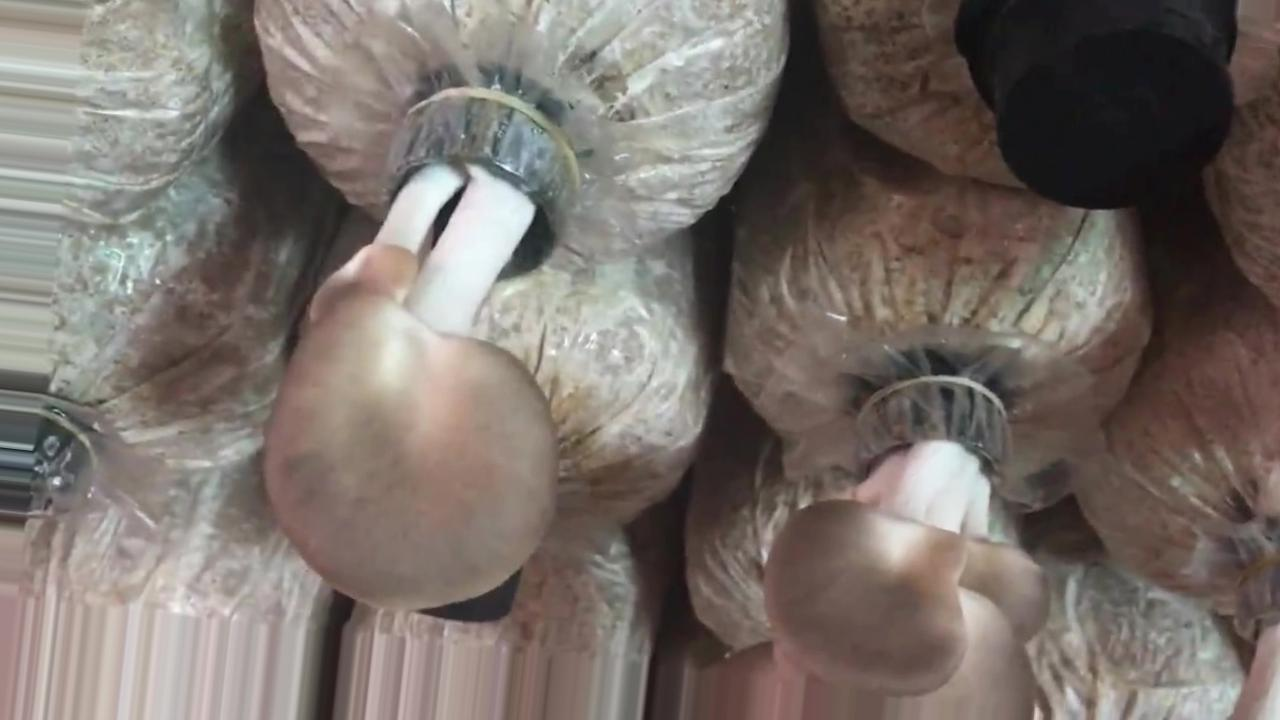nam: (264, 92, 595, 609), (700, 382, 1050, 720)
